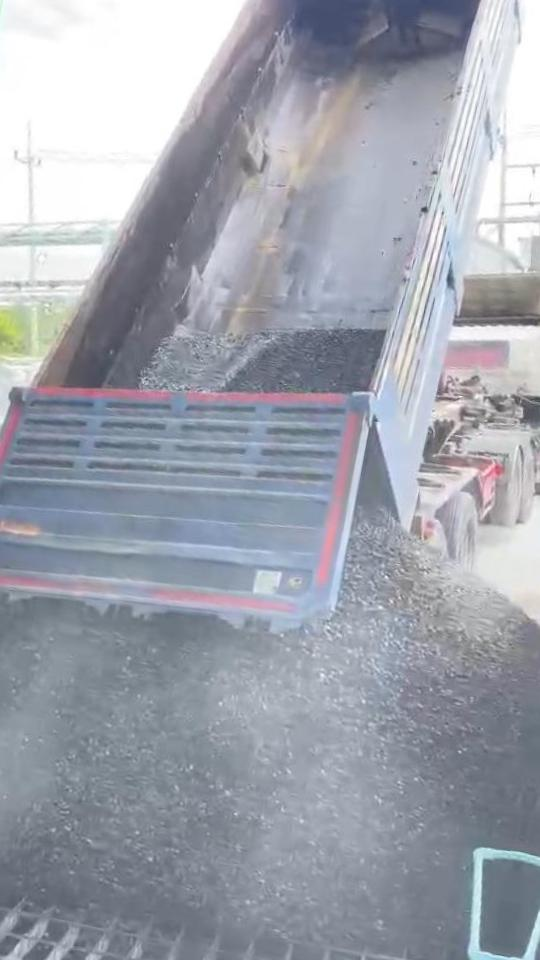gravel: (0, 514, 540, 960), (136, 330, 384, 391), (481, 859, 519, 954)
